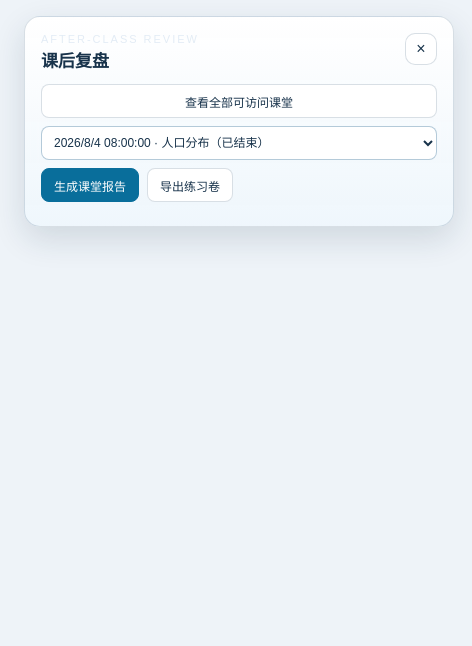
Test case: ReportPanel › marks student response data as uncollected and renders teacher oral evidence
The image size is (472, 646).
Click the button with test id "generate-report": {"x": 90, "y": 185} [41,168,139,202]
(page scrolled)
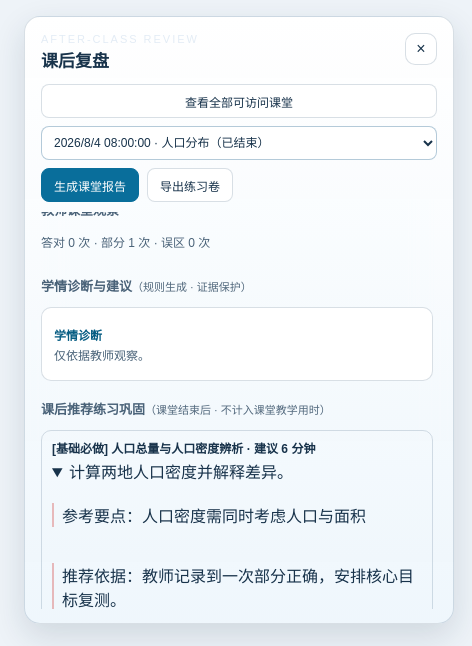
Check: the text "（规则生成 · 证据保护）" is shown, box [132,281,252,293]
Check: the heading "课后推荐练习巩固（课堂结束后 · 不计入课堂教学用时）" is shown, box [41,402,331,417]
Check: the text "[基础必做] 人口总量与人口密度辨析 · 建议 6 分钟" is shown, box [52,442,315,456]
